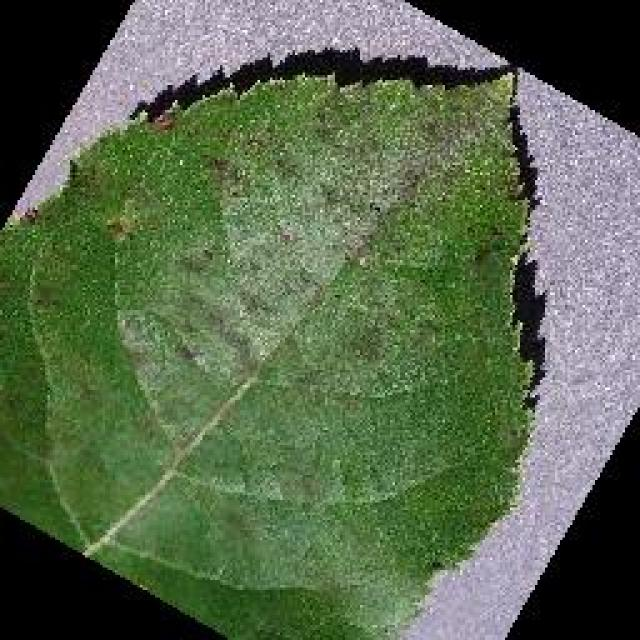apple scab disease: (0, 48, 548, 638)
